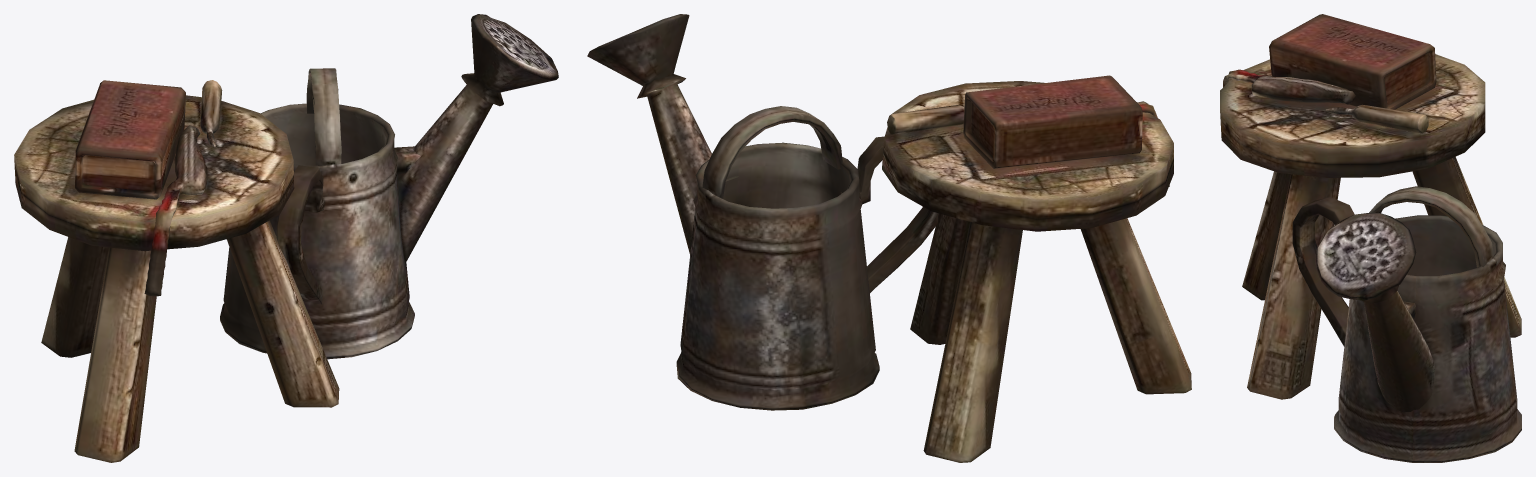
File: act1-a25-5-tending-kit.glb
3 views of the same model, side by side, from view 1: azimuth 30°, elevation 25°; view 2: azimuth 150°, elevation 25°; view 3: azimuth 270°, elevation 25° (orthographic). The views are drawn at different scales.
Visible parts, largest first — view 1: act1-a25-5-tending-kit; view 2: act1-a25-5-tending-kit; view 3: act1-a25-5-tending-kit.
Boxes of the visible parts, x1,y1,x2,y2 form: act1-a25-5-tending-kit: [14, 14, 558, 462]; act1-a25-5-tending-kit: [587, 14, 1191, 462]; act1-a25-5-tending-kit: [1220, 14, 1521, 462].
Size of the model in its own units: 1 by 0.5283 by 0.5151.
1 material, 1 textured.
